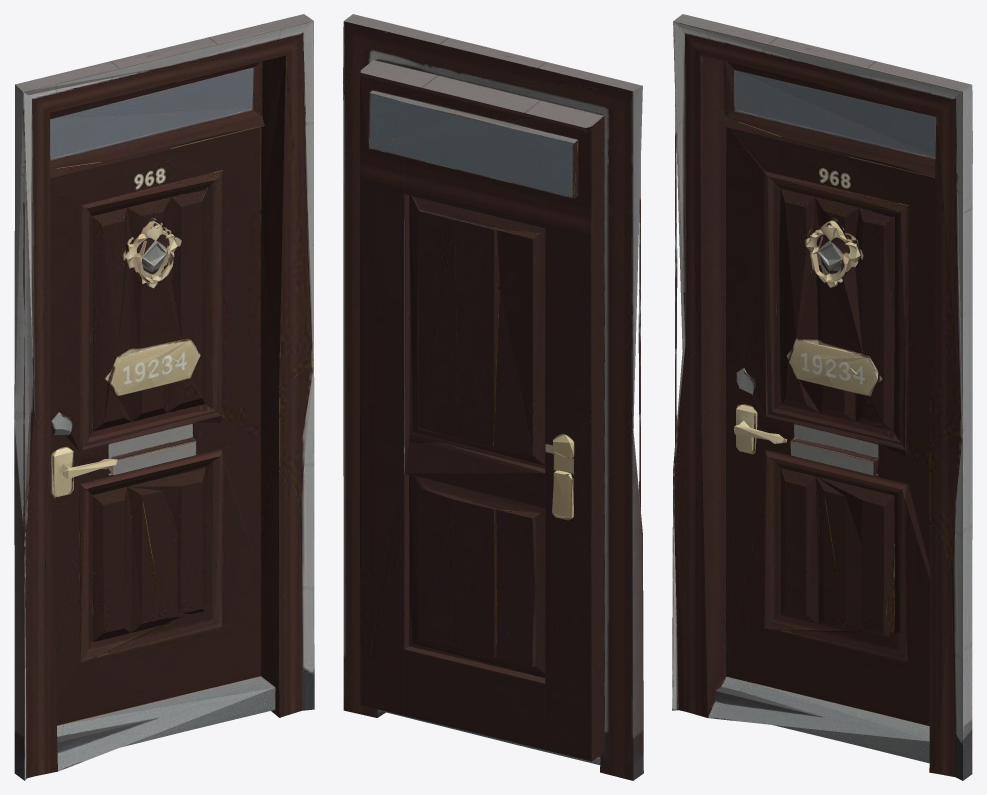
File: homeDoor.glb
3 views of the same model, side by side, from view 1: azimuth 30°, elevation 25°; view 2: azimuth 150°, elevation 25°; view 3: azimuth 330°, elevation 25° (orthographic).
Size of the model in its own units: 0.839 by 1.9 by 0.1377.
1 material, 1 textured.
